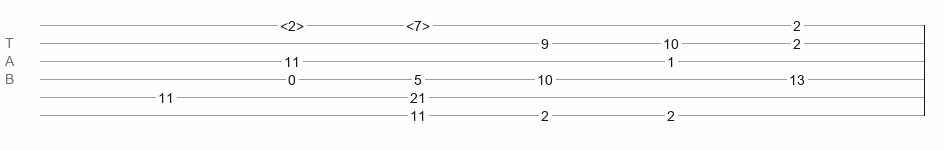0: (288, 72, 296, 82)
1: (667, 54, 675, 64)
10: (537, 72, 553, 82), (663, 36, 679, 46)
11: (158, 90, 174, 100), (284, 54, 300, 64), (410, 108, 426, 118)
13: (789, 72, 805, 82)
2: (541, 108, 549, 118), (667, 108, 675, 118), (793, 36, 801, 46), (793, 18, 801, 28)
21: (410, 90, 426, 100)
5: (414, 72, 422, 82)
9: (541, 36, 549, 46)
harmonic: (280, 18, 304, 28), (406, 18, 430, 28)
